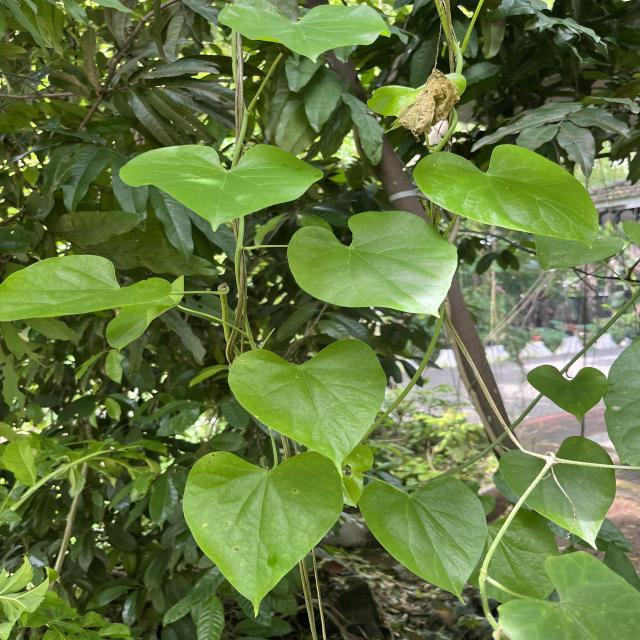Tinospora cordifolia: (181, 446, 347, 620), (227, 334, 390, 478), (409, 140, 603, 254), (114, 139, 326, 236), (283, 208, 460, 322), (351, 472, 492, 607), (216, 0, 391, 68)
